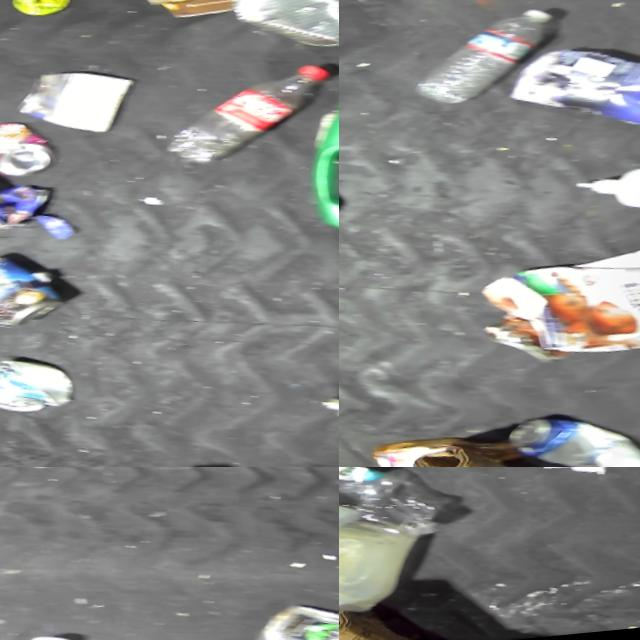can: (11, 60, 140, 145), (217, 0, 339, 74), (504, 404, 640, 467), (0, 241, 79, 340), (0, 346, 86, 424), (0, 112, 65, 187), (533, 467, 640, 489), (0, 0, 79, 25)
plastic_bottle: (163, 51, 337, 186), (408, 0, 559, 121), (339, 467, 461, 557)
